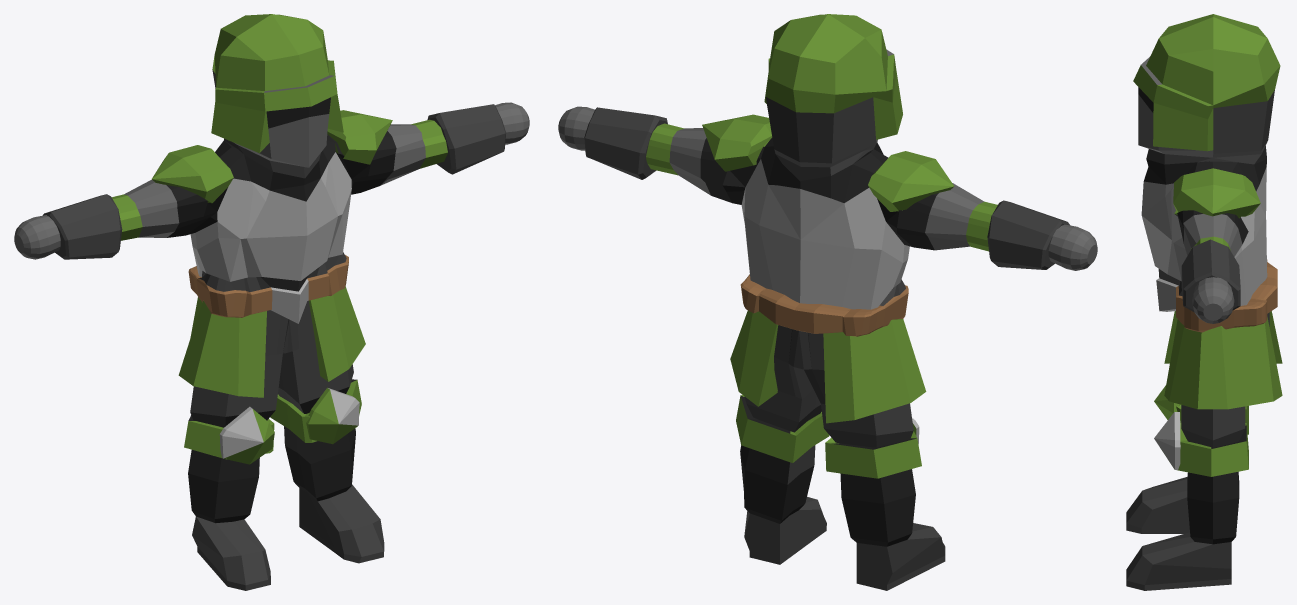
Rendered from GreenArmy 1.fbx.
3 views of the same model, side by side, from view 1: azimuth 30°, elevation 25°; view 2: azimuth 150°, elevation 25°; view 3: azimuth 270°, elevation 25° (orthographic). The views are drawn at different scales.
Parts seen in each view (by area): view 1: Cylinder.001; view 2: Cylinder.001; view 3: Cylinder.001.
Part boxes in pixels (bbox=[...]): Cylinder.001: bbox=[14, 14, 529, 590]; Cylinder.001: bbox=[558, 14, 1097, 590]; Cylinder.001: bbox=[1126, 14, 1282, 590].
Size of the model in its own units: 426 by 424 by 112.
Materials: 1 (1 with a texture image).
